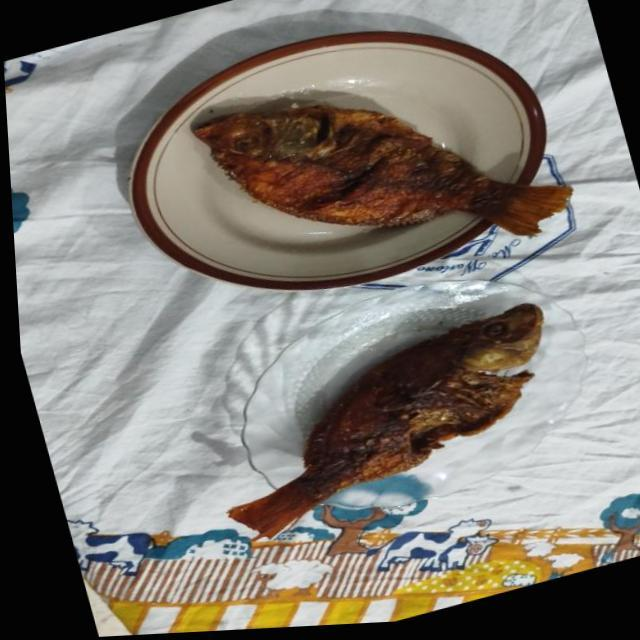ikan_mujair: (228, 303, 542, 538), (194, 104, 572, 236)
